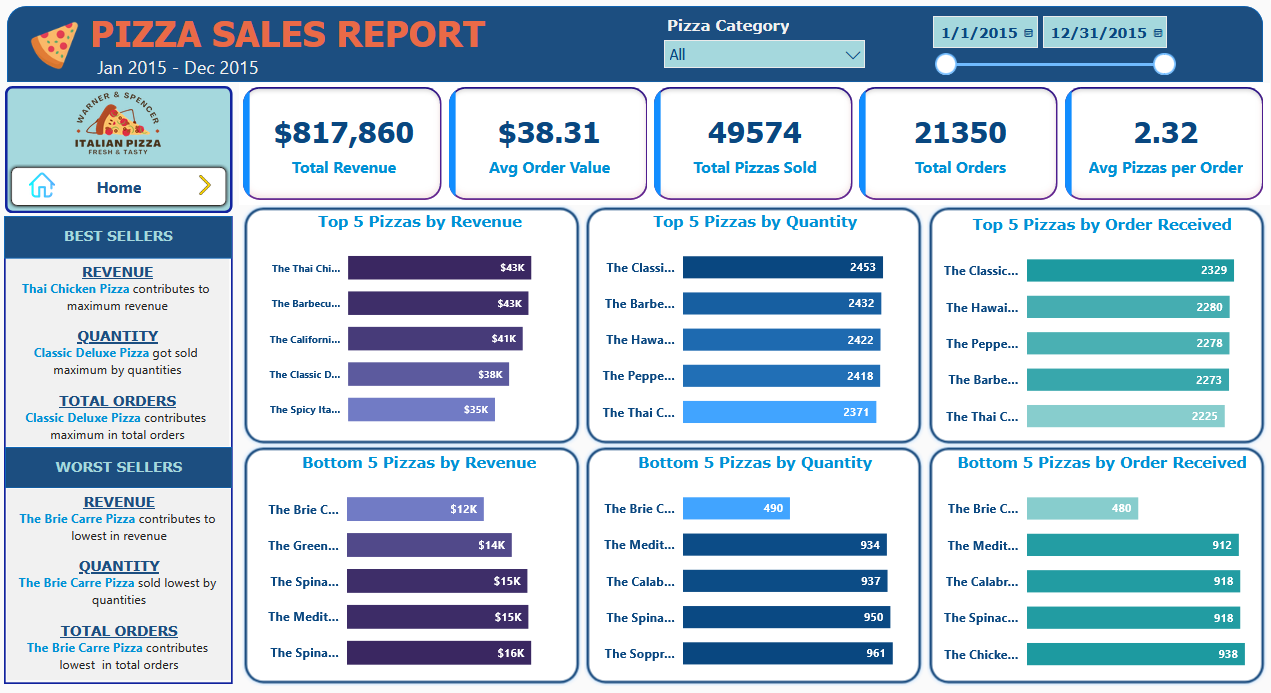

This screenshot's page, from the dashboard's own definition file:
{"tool":"powerbi","page":{"name":"Best vs Worst Sellers","canvas":[1500,820],"ordinal":1},"visuals":[{"type":"shape","box":[8.3,256.9,269.4,551.4],"z":0},{"type":"shape","box":[9.7,104.2,268.1,150],"z":1000},{"type":"cardVisual","fields":{"Data":["pizza_sales.Total Revenue","pizza_sales.Avg Order Value","pizza_sales.Total Pizzas Sold","pizza_sales.Total Orders","pizza_sales.Avg Pizzas per Order"]},"box":[285.5,100,1214.5,143.5],"z":2000},{"type":"shape","box":[288.4,244.2,400,283.7],"z":3000},{"type":"textbox","box":[11.1,306.9,262.5,220.8],"z":4000},{"type":"textbox","box":[11.5,578.8,264.1,225.3],"z":5000},{"type":"shape","box":[288.4,527.1,400,283.7],"z":6000},{"type":"shape","box":[691.9,527.1,400,283.7],"z":7000},{"type":"shape","box":[1095.3,527.1,400,283.7],"z":8000},{"type":"shape","box":[691.9,244.2,400,283.7],"z":9000},{"type":"shape","box":[1095.3,244.2,400,283.7],"z":10000},{"type":"barChart","title":"Top 5 Pizzas by Revenue","fields":{"Category":["pizza_sales.pizza_name"],"Y":["pizza_sales.Total Revenue"]},"box":[307.7,253.8,380,267.7],"z":11000},{"type":"barChart","title":"Bottom 5 Pizzas by Revenue","fields":{"Category":["pizza_sales.pizza_name"],"Y":["pizza_sales.Total Revenue"]},"box":[304.6,536.9,383.1,270.8],"z":12000},{"type":"barChart","title":"Top 5 Pizzas by Quantity","fields":{"Category":["pizza_sales.pizza_name"],"Y":["pizza_sales.Total Pizzas Sold"]},"box":[701.5,253.8,383.1,269.2],"z":13000},{"type":"barChart","title":"Bottom 5 Pizzas by Quantity","fields":{"Category":["pizza_sales.pizza_name"],"Y":["pizza_sales.Total Pizzas Sold"]},"box":[701.5,536.9,383.1,270.8],"z":14000},{"type":"barChart","title":"Top 5 Pizzas by Order Received","fields":{"Category":["pizza_sales.pizza_name"],"Y":["pizza_sales.Total Orders"]},"box":[1103.1,256.9,396.9,270.8],"z":15000},{"type":"barChart","title":"Bottom 5 Pizzas by Order Received","fields":{"Category":["pizza_sales.pizza_name"],"Y":["pizza_sales.Total Orders"]},"box":[1103.1,536.9,396.9,270.8],"z":16000},{"type":"pageNavigator","box":[13.1,195.5,261.3,53.8],"z":17000},{"type":"image","box":[220.8,204.2,48.6,33.3],"z":18000},{"type":"image","box":[33.3,198.6,40.3,43.1],"z":19000},{"type":"shape","box":[11.7,10,1480,90],"z":20000},{"type":"textbox","box":[93.3,61.7,240,46.7],"z":21000},{"type":"shape","box":[9.1,529.1,267.9,48.7],"z":22000},{"type":"image","box":[20.8,22.3,94,67.5],"z":23000},{"type":"slicer","fields":{"Values":["pizza_sales.pizza_category"]},"box":[776.7,16.7,256.7,73.3],"z":24000},{"type":"slicer","fields":{"Values":["pizza_sales.order_date"]},"box":[1090,11.7,306.7,86.7],"z":25000},{"type":"textbox","box":[93.3,10,498.3,61.7],"z":26000},{"type":"shape","box":[8.7,257,269.1,50.2],"z":27000},{"type":"textbox","box":[48.2,537.3,190.4,33.7],"z":28000},{"type":"textbox","box":[48.2,265.1,189.2,33.7],"z":29000},{"type":"image","box":[76.4,89.9,132.7,115.1],"z":30000}]}

Visuals, with their boxes in screenshot pixels (x1, y1, x2, y2), scaled from the page's 1500x820 canvas onto the 1271x693 screenshot:
shape: x1=7, y1=217, x2=235, y2=683
shape: x1=8, y1=88, x2=235, y2=215
cardVisual - pizza_sales.Total Revenue x pizza_sales.Avg Order Value: x1=242, y1=85, x2=1270, y2=206
shape: x1=244, y1=206, x2=583, y2=446
textbox: x1=9, y1=259, x2=232, y2=446
textbox: x1=10, y1=489, x2=234, y2=680
shape: x1=244, y1=445, x2=583, y2=685
shape: x1=586, y1=445, x2=925, y2=685
shape: x1=928, y1=445, x2=1267, y2=685
shape: x1=586, y1=206, x2=925, y2=446
shape: x1=928, y1=206, x2=1267, y2=446
"Top 5 Pizzas by Revenue" barChart: x1=261, y1=214, x2=583, y2=441
"Bottom 5 Pizzas by Revenue" barChart: x1=258, y1=454, x2=583, y2=683
"Top 5 Pizzas by Quantity" barChart: x1=594, y1=214, x2=919, y2=442
"Bottom 5 Pizzas by Quantity" barChart: x1=594, y1=454, x2=919, y2=683
"Top 5 Pizzas by Order Received" barChart: x1=935, y1=217, x2=1270, y2=446
"Bottom 5 Pizzas by Order Received" barChart: x1=935, y1=454, x2=1270, y2=683
pageNavigator: x1=11, y1=165, x2=233, y2=211
image: x1=187, y1=173, x2=228, y2=201
image: x1=28, y1=168, x2=62, y2=204
shape: x1=10, y1=8, x2=1264, y2=85
textbox: x1=79, y1=52, x2=282, y2=92
shape: x1=8, y1=447, x2=235, y2=488
image: x1=18, y1=19, x2=97, y2=76
slicer - pizza_sales.pizza_category: x1=658, y1=14, x2=876, y2=76
slicer - pizza_sales.order_date: x1=924, y1=10, x2=1183, y2=83
textbox: x1=79, y1=8, x2=501, y2=61
shape: x1=7, y1=217, x2=235, y2=260
textbox: x1=41, y1=454, x2=202, y2=483
textbox: x1=41, y1=224, x2=201, y2=253
image: x1=65, y1=76, x2=177, y2=173
